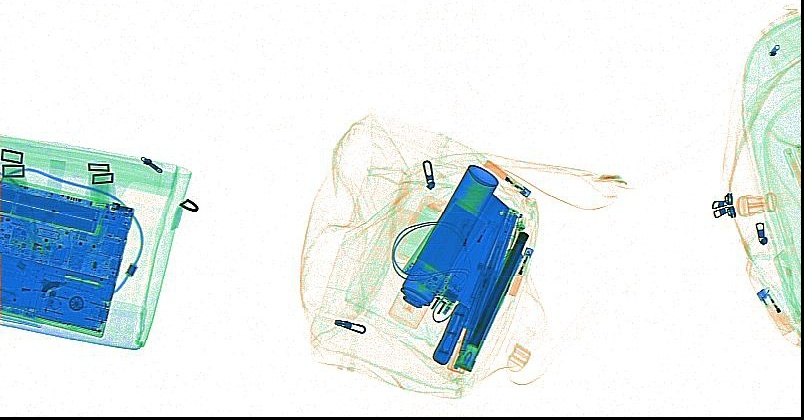knife: (432, 192, 510, 363)
lighter: (755, 286, 794, 337), (482, 159, 530, 197), (508, 244, 533, 295)
pressure: (388, 164, 497, 327)
